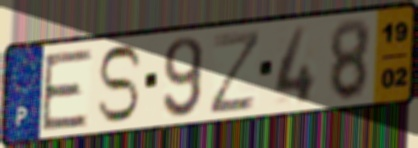4: (271, 23, 320, 107)
8: (327, 16, 373, 104)
9: (162, 35, 205, 120)
E: (39, 46, 95, 133)
S: (94, 43, 145, 126)
Z: (207, 27, 264, 117)
